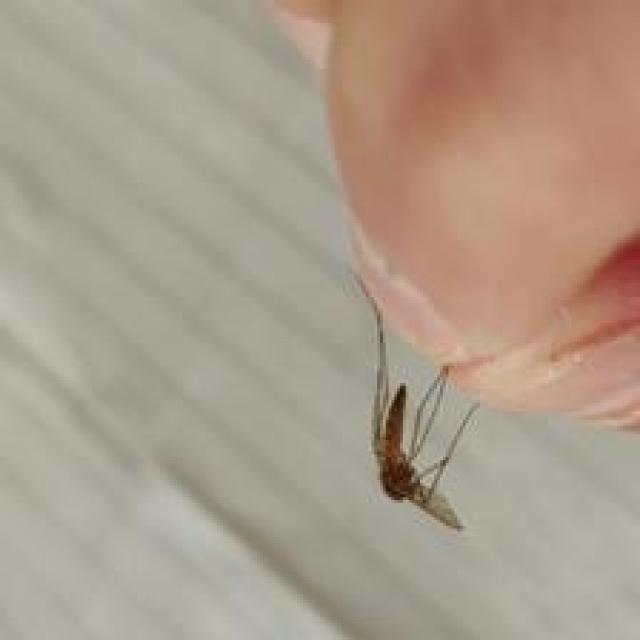Culex: (347, 268, 482, 532)
